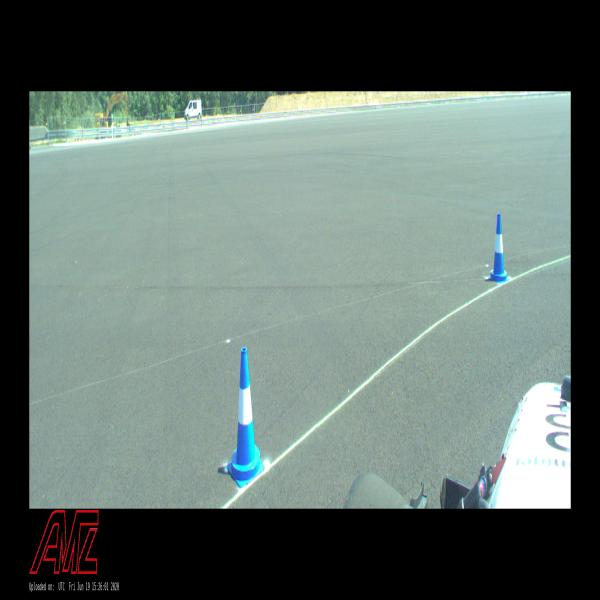blue_cone: (227, 347, 265, 488), (488, 214, 510, 283)
